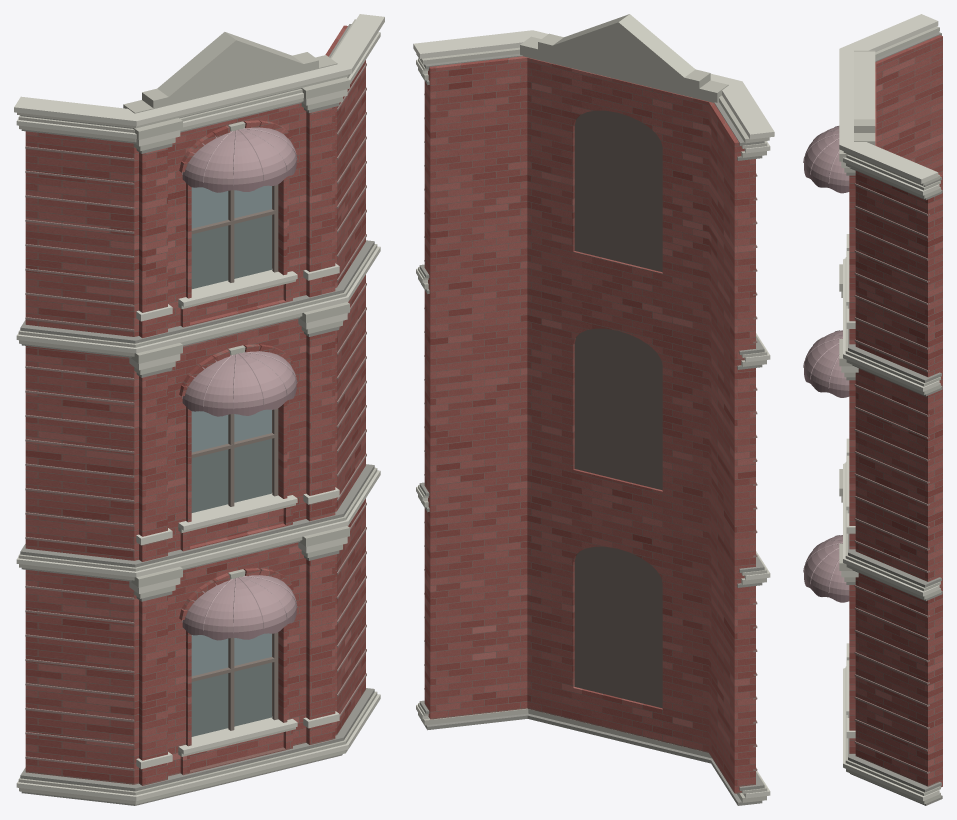
File: jenkee-red-brick-corner-far.glb
3 renders of one model, left to right at view 1: azimuth 30°, elevation 25°; view 2: azimuth 150°, elevation 25°; view 3: azimuth 270°, elevation 25°, orthographic. The views are drawn at different scales.
Parts seen in each view (by area): view 1: 仁记路119号大楼红砖切角窗间; view 2: 仁记路119号大楼红砖切角窗间; view 3: 仁记路119号大楼红砖切角窗间.
Boxes of the visible parts, bbox=[...] form: 仁记路119号大楼红砖切角窗间: bbox=[14, 14, 384, 805]; 仁记路119号大楼红砖切角窗间: bbox=[413, 14, 774, 805]; 仁记路119号大楼红砖切角窗间: bbox=[803, 14, 942, 805].
Bounding box in the file's own units: 4.61 × 8.78 × 1.65.
12 materials, 1 textured.
